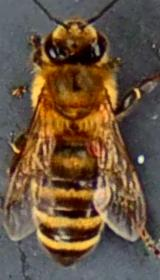varroa_mite: (81, 126, 108, 156)
